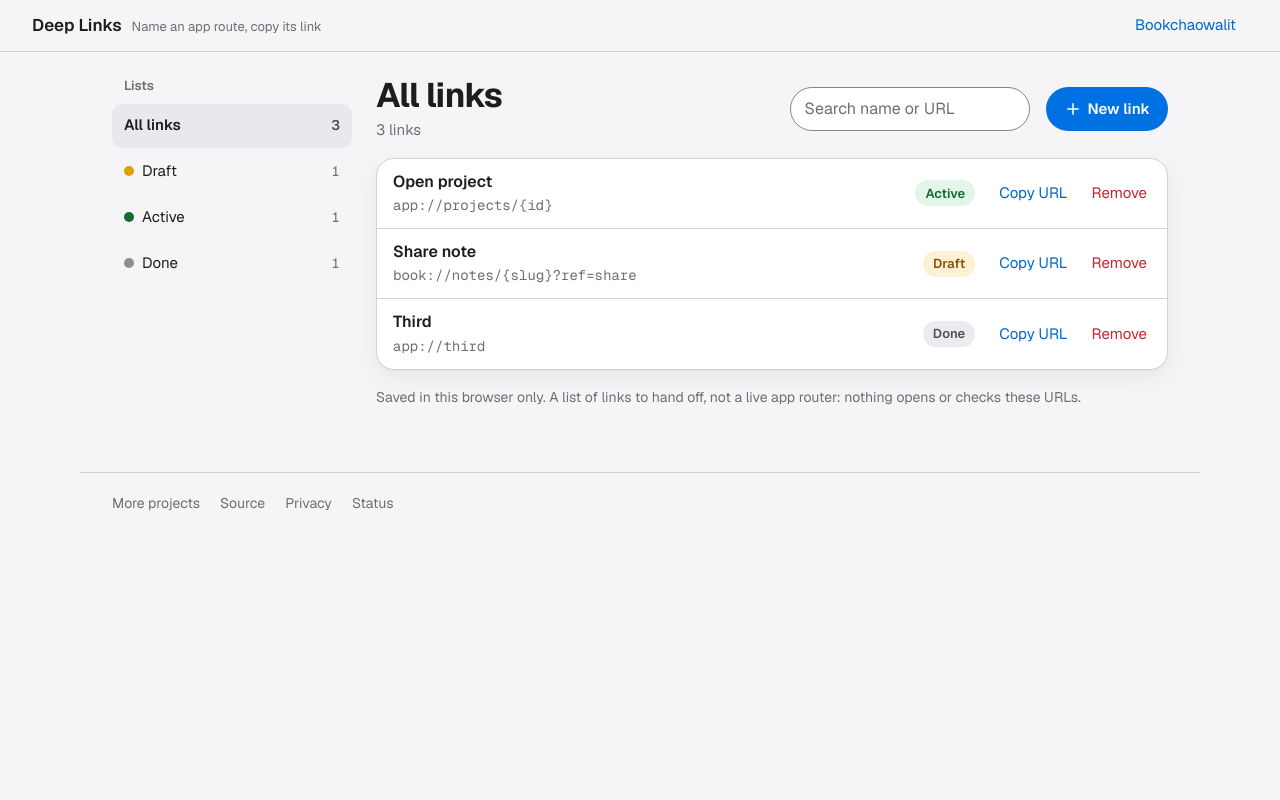
deep links › removals inside the Undo window form one batch; Undo restores every link in place
The image size is (1280, 800).
Click the button "Remove" in the row of "Share note" at (1119, 264), box [1080,242,1159,286]
Wait 4000 ms
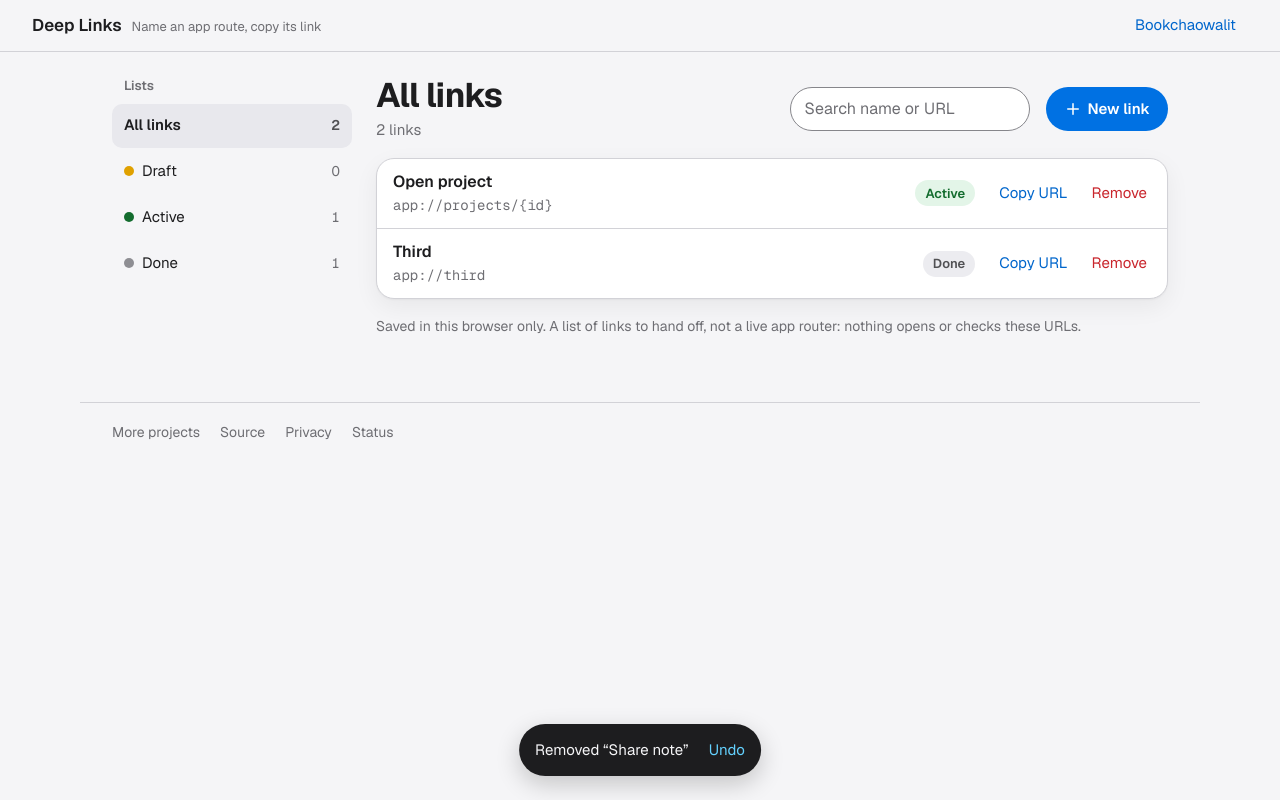
Click the button "Remove" in the row of "Open project" at (1119, 193), box [1080,171,1159,215]
Wait 4000 ms
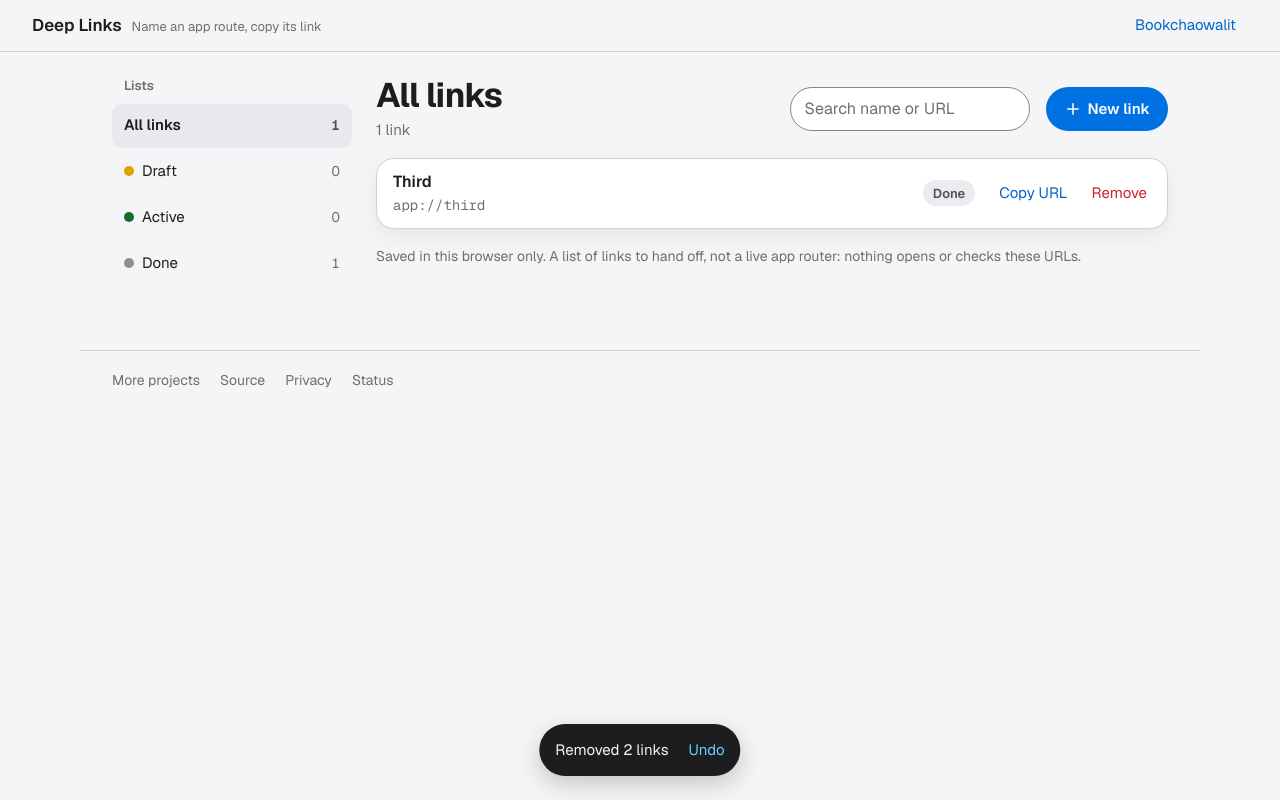
Expected: the text "Removed 2 links" is shown, [555,739,668,761]
Click the button "Undo" at (707, 750), box [676,728,737,772]
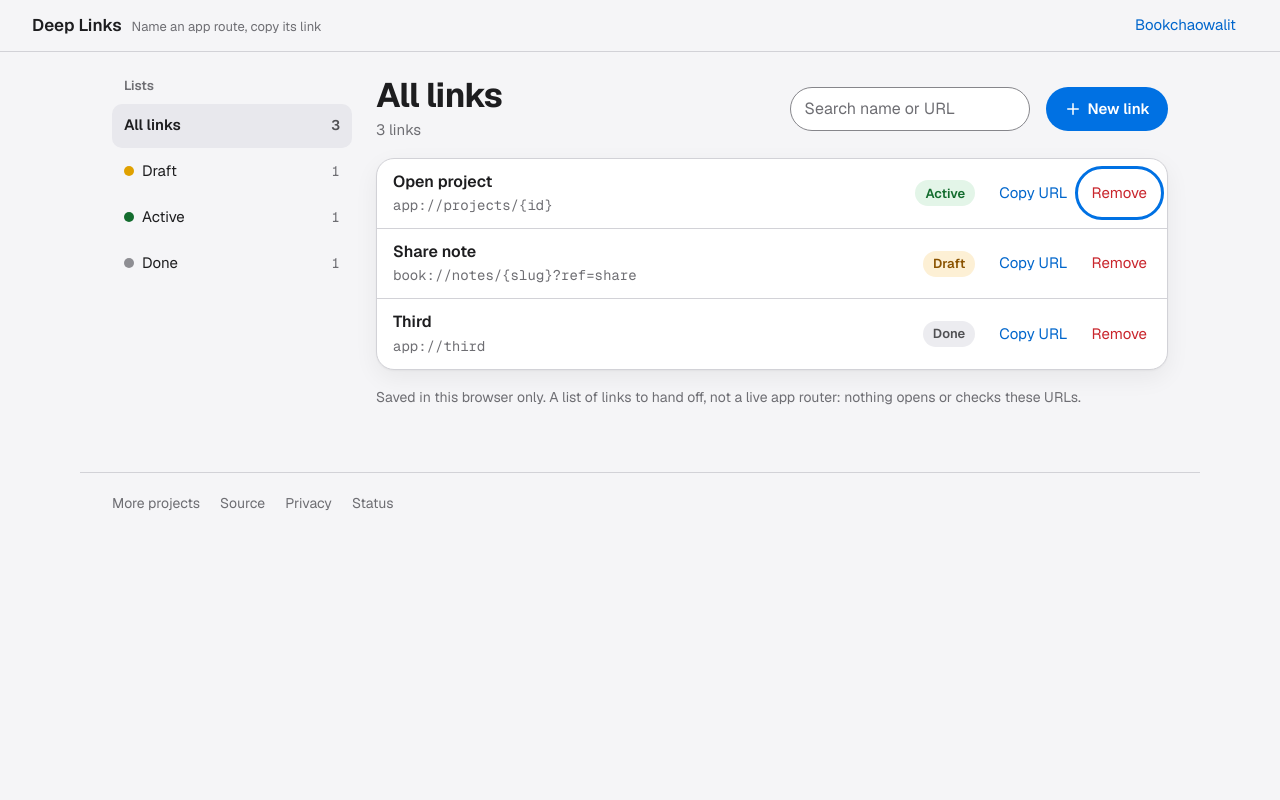
Expected: the element with class "as-toast" is gone
